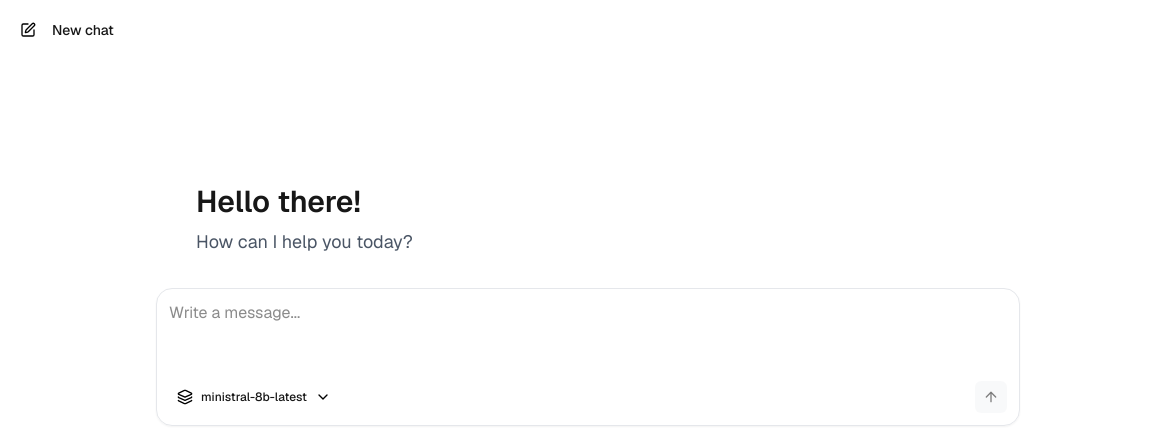
Test: NewChat › starts empty when clicking New chat in a chat that has just been saved
Type "ping" into the text box with placeholder "Write a message...".
click(588, 341); type("ping")  # box left=169, top=301, right=1007, bottom=381
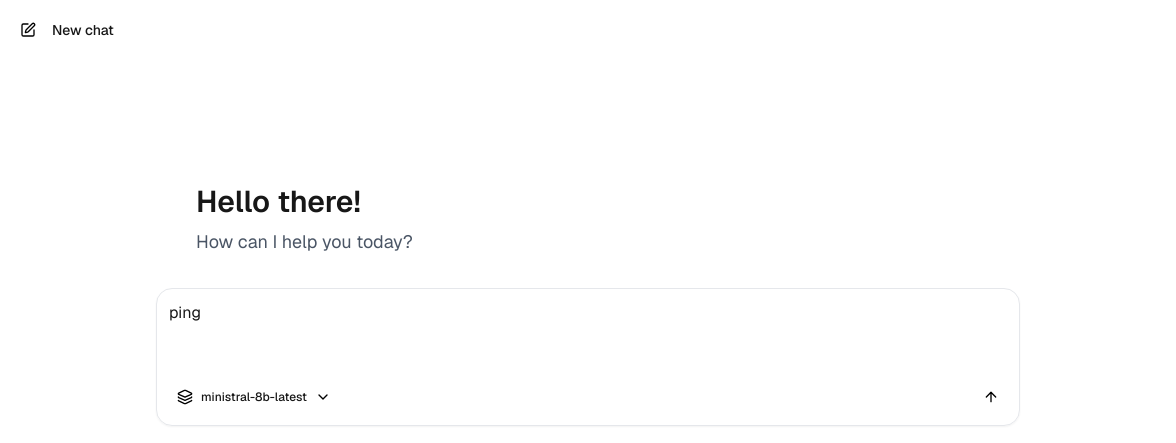
Press Enter in the text box with placeholder "Write a message...", box left=169, top=301, right=1007, bottom=381
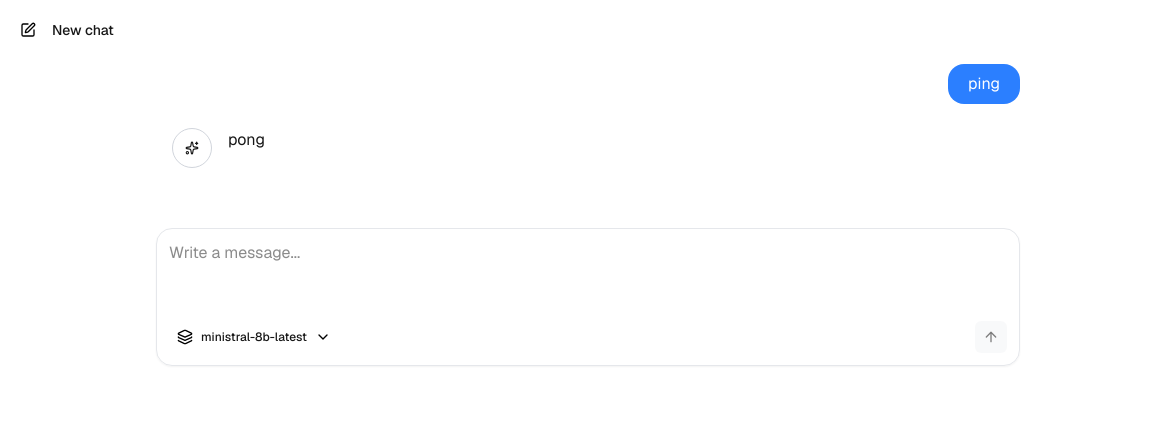
Result: the text "pong" is shown at left=228, top=128, right=265, bottom=152
Click the button "New chat".
click(83, 30)  # box left=12, top=12, right=1164, bottom=48
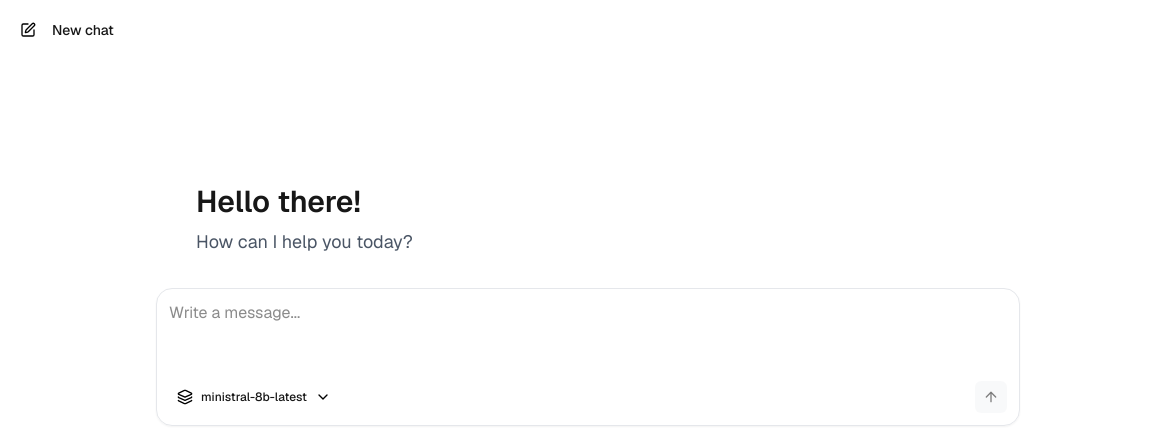
Result: the heading "Hello there!" is shown at left=196, top=182, right=361, bottom=221
Result: the text "pong" is gone
